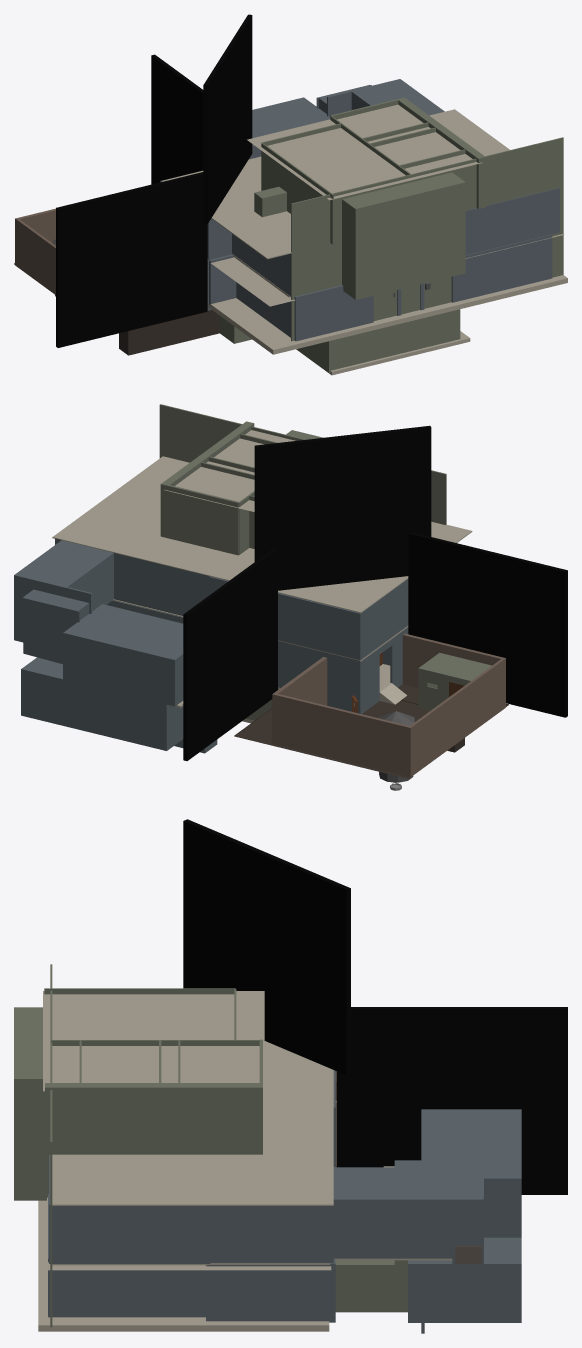
File: hauntedHouse.glb
The picture shows the model from 3 angles, top to bottom: view 1: azimuth 30°, elevation 25°; view 2: azimuth 150°, elevation 25°; view 3: azimuth 270°, elevation 25°; orthographic projection. The views are drawn at different scales.
Parts seen in each view (by area): view 1: black_wall_2, Plane.009, Cube.047, Plane.007, black_wall_3, black_wall, Plane.005, Cube.095, Plane.013, Walls.006, Plane.011, Walls.005 (+13 smaller); view 2: black_wall_3, black_wall_2, Plane.016, black_wall, Plane.005, Walls.009, Walls.011, Walls, Plane.006, Walls.007, Walls.002, Walls.010 (+8 smaller); view 3: black_wall, black_wall_3, Plane.005, Plane.007, Plane.006, Walls.008, Walls.005, Walls.009, Walls.011, Walls.006, Walls.007, Walls.004 (+9 smaller).
Part boxes in pixels (x1,y1,x2,y2): black_wall_2: (56, 172, 207, 347); Plane.009: (342, 172, 465, 299); Cube.047: (291, 137, 563, 341); Plane.007: (247, 104, 482, 200); black_wall_3: (203, 14, 252, 224); black_wall: (151, 54, 203, 184); Plane.005: (161, 109, 509, 259); Cube.095: (296, 309, 460, 373); Plane.013: (208, 275, 567, 354); Walls.006: (451, 234, 552, 302); Plane.011: (236, 282, 373, 341); Walls.005: (465, 188, 559, 254); black_wall_3: (254, 425, 431, 590); black_wall_2: (408, 532, 567, 717); Plane.016: (272, 633, 505, 777); black_wall: (183, 548, 277, 760); Plane.005: (52, 456, 472, 612); Walls.009: (63, 604, 183, 706); Walls.011: (21, 657, 217, 753); Walls: (209, 576, 408, 660); Plane.006: (160, 421, 254, 555); Walls.007: (107, 600, 408, 707); Walls.002: (114, 553, 209, 615); Walls.010: (14, 574, 92, 664); black_wall: (337, 1007, 567, 1194); black_wall_3: (183, 819, 350, 1075); Plane.005: (52, 1041, 333, 1205); Plane.007: (43, 991, 264, 1091); Plane.006: (45, 1039, 262, 1154); Walls.008: (333, 1167, 452, 1258); Walls.005: (49, 1155, 210, 1263); Walls.009: (421, 1109, 521, 1237); Walls.011: (394, 1237, 521, 1333); Walls.006: (48, 1194, 205, 1317); Walls.007: (206, 1166, 335, 1322); Walls.004: (210, 1206, 333, 1262).
Size of what is drawn, in the model's own units: 52.82 by 31.2 by 42.44.
